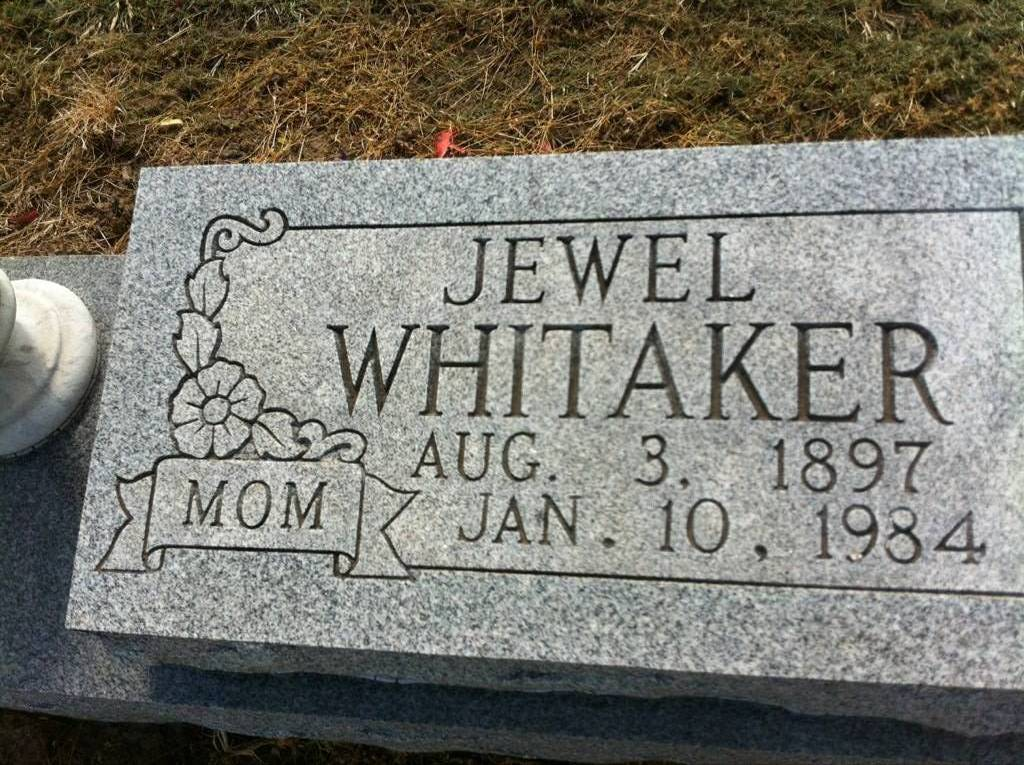flat: (67, 149, 1024, 736)
